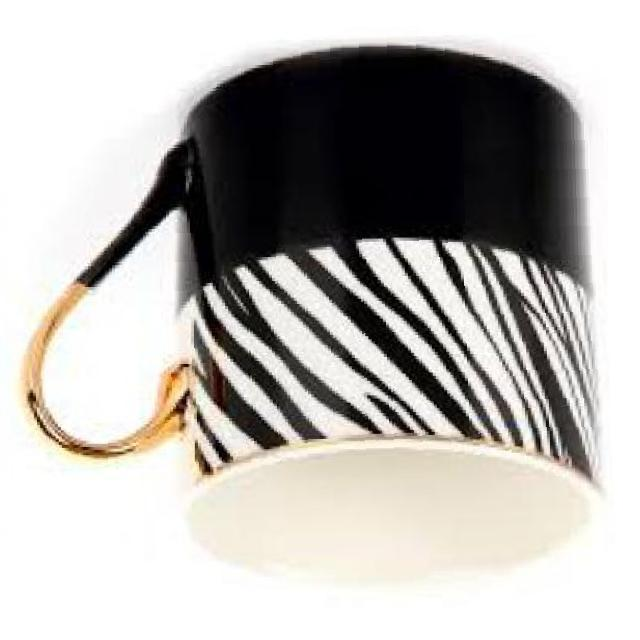cup: (0, 30, 616, 604)
